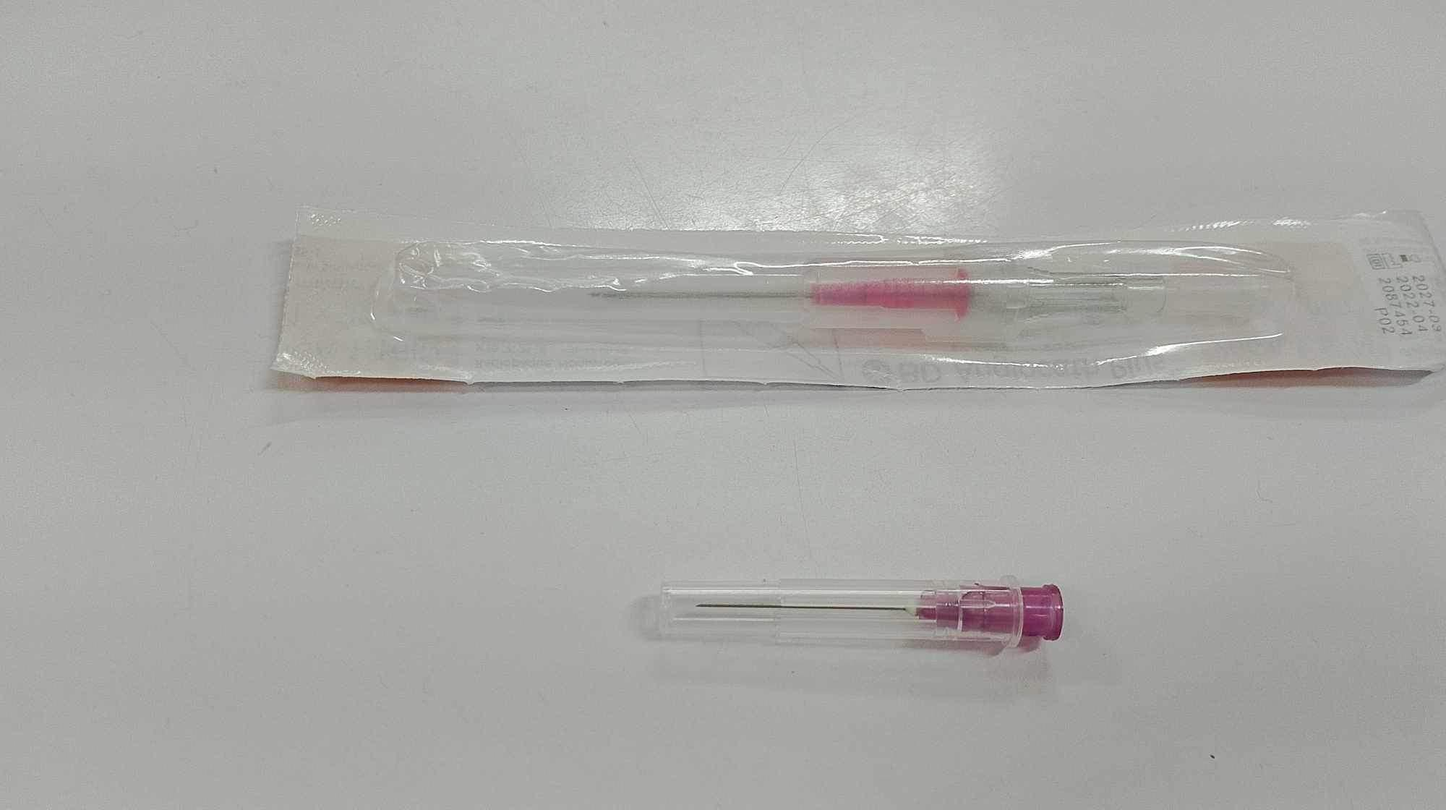General: (269, 202, 1441, 394)
Sharps: (640, 577, 1065, 652)
